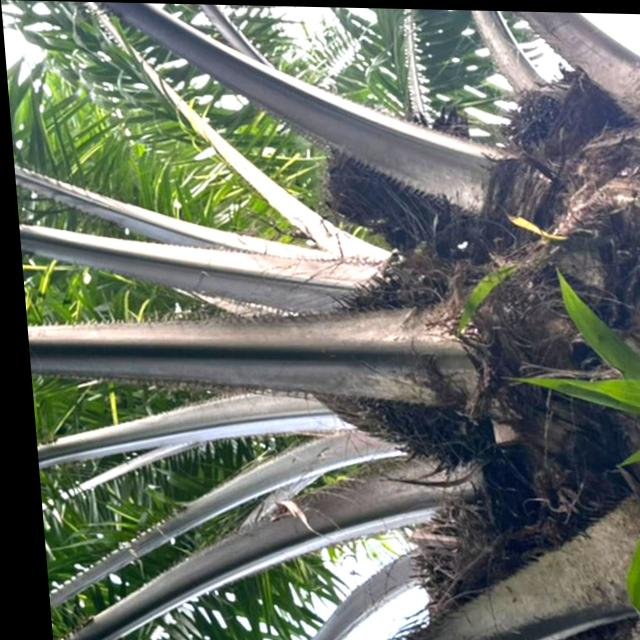unripe: (274, 262, 490, 460), (392, 479, 578, 622), (308, 103, 472, 220), (497, 66, 613, 156)
